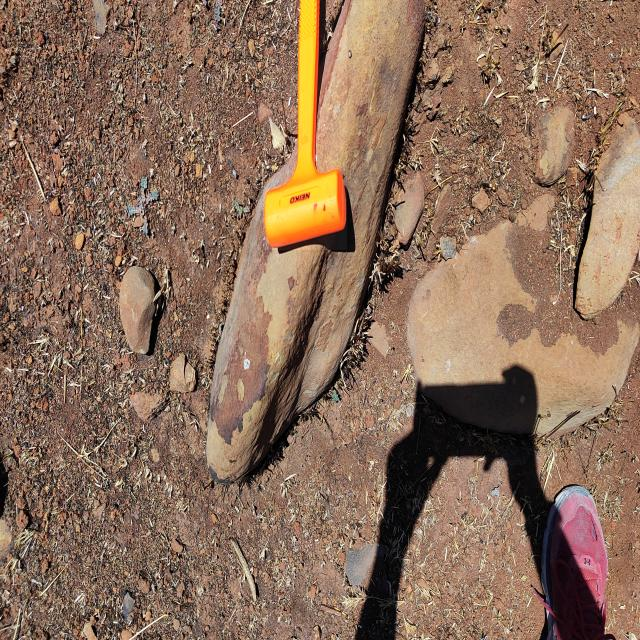Orange_hammer: (263, 0, 347, 250)
